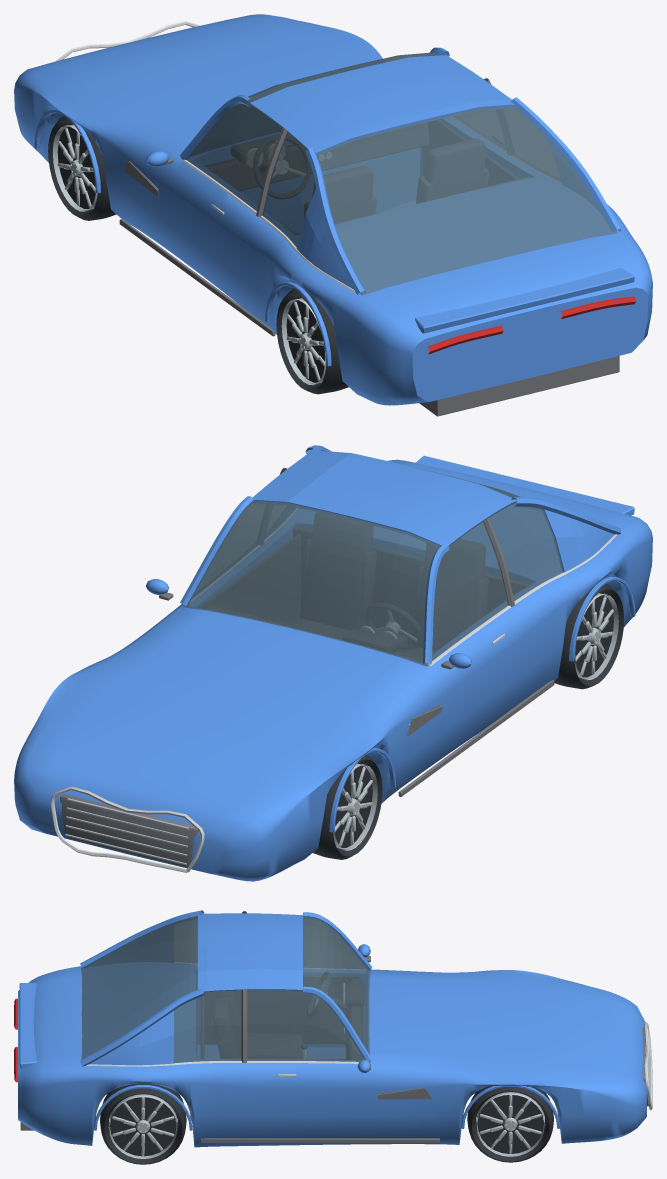
Rendered from Meridian.fbx.
The picture shows the model from 3 angles, top to bottom: view 1: azimuth 30°, elevation 25°; view 2: azimuth 150°, elevation 25°; view 3: azimuth 270°, elevation 25°; orthographic projection. The views are drawn at different scales.
Visible parts, largest first — view 1: Body__paint, Body__glass, Body__interior, Body__engine, WheelRL__rubber, WheelFL__rubber, WheelRL__metal, WheelFL__metal, Body__chrome, Body__tail, Steer__interior; view 2: Body__paint, Body__glass, Body__interior, Body__engine, WheelRL__rubber, WheelFL__rubber, Body__chrome, Body__metal, WheelRL__metal, WheelFL__metal, Steer__interior; view 3: Body__paint, Body__glass, Body__interior, WheelRR__rubber, WheelFR__rubber, Body__engine, WheelRR__metal, WheelFR__metal, Body__chrome.
Part boxes in pixels (x1,y1,x2,y2): Body__paint: (14,14,652,405); Body__glass: (186,52,617,295); Body__interior: (204,120,530,235); Body__engine: (119,78,619,416); WheelRL__rubber: (276,288,348,394); WheelFL__rubber: (48,116,116,220); WheelRL__metal: (282,298,325,384); WheelFL__metal: (53,124,96,210); Body__chrome: (55,21,617,294); Body__tail: (427,296,635,354); Steer__interior: (253,135,310,199); Body__paint: (14,445,652,881); Body__glass: (183,450,563,666); Body__interior: (199,512,529,661); Body__engine: (59,468,554,866); WheelRL__rubber: (554,583,624,689); WheelFL__rubber: (313,754,382,859); Body__chrome: (50,508,617,872); Body__metal: (65,627,394,865); WheelRL__metal: (574,593,618,679); WheelFL__metal: (334,763,377,849); Steer__interior: (365,603,422,649); Body__paint: (18,910,646,1147); Body__glass: (81,915,370,1064); Body__interior: (201,975,363,1059); WheelRR__rubber: (100,1083,186,1164); WheelFR__rubber: (467,1086,553,1162); Body__engine: (20,911,648,1143); WheelRR__metal: (109,1094,177,1158); WheelFR__metal: (476,1092,544,1156); Body__chrome: (86,962,652,1110).
Bounding box in the file's own units: 2.2 × 1.38 × 4.8.
